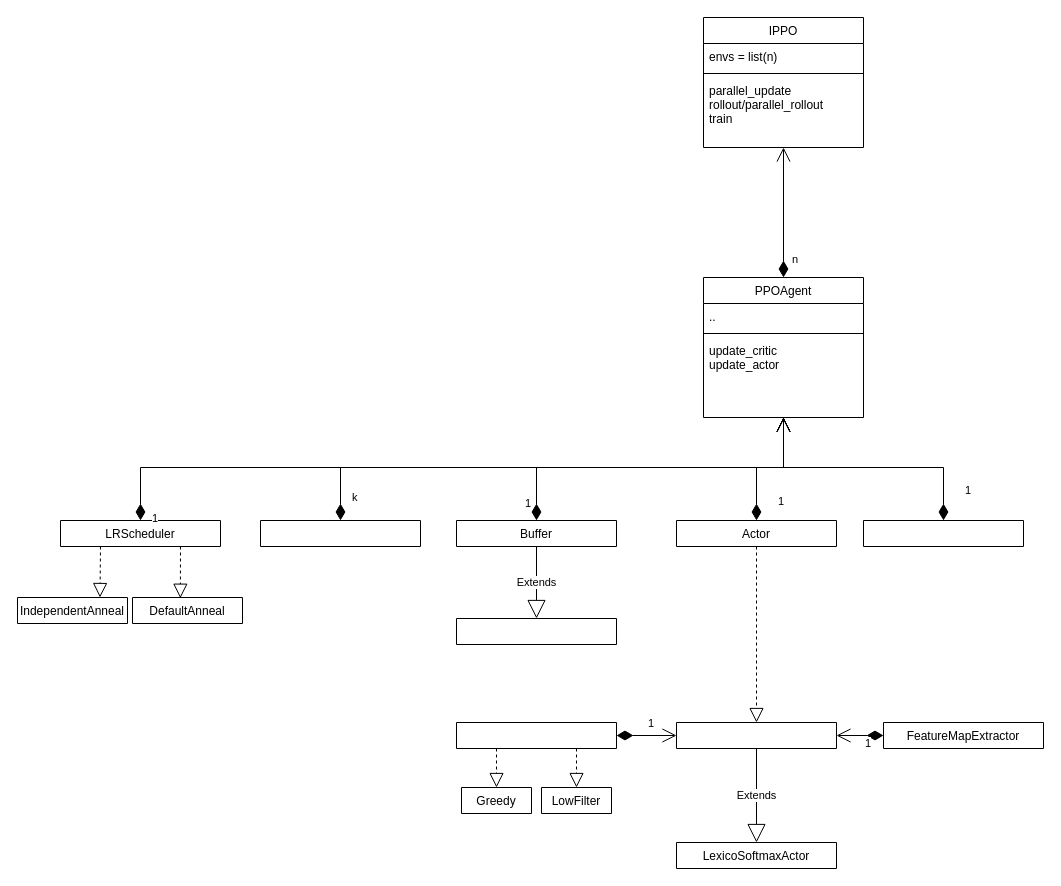
Some shapes in this 1061 by 886 pixel diagram are drawn without their labels. Here are the shapes that lost their labels. From the top down, the centre of each, then its label:
At point (340, 533): "Callbacks".
At point (943, 533): "Critic".
At point (536, 631): "LexicoBuffer".
At point (536, 735): "SoftmaxFilter".
At point (756, 735): "SoftmaxActor".
